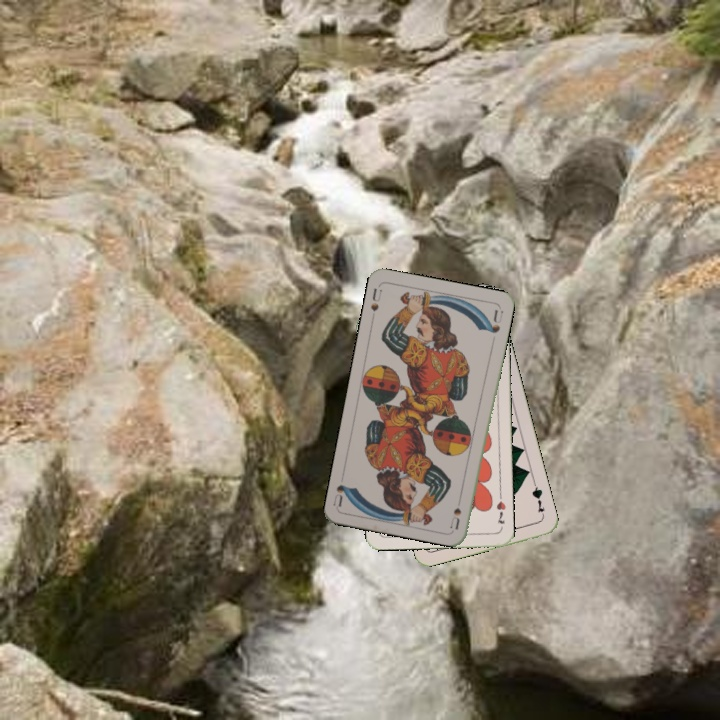G7: (528, 480, 547, 520)
H7: (492, 497, 508, 526)
SU: (367, 284, 385, 323), (447, 490, 464, 531)
